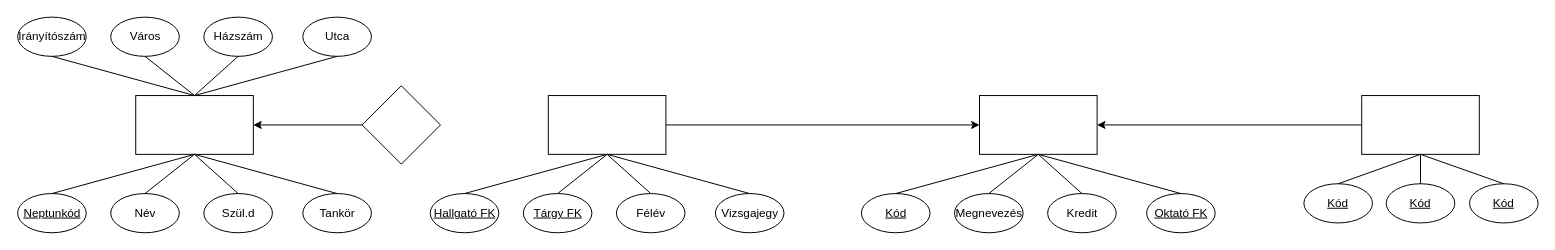
Image size: 1555x250. Some labels were removed from this diagram. Here are the shapes that lost their labels. From the top down, the centre of each, then its label:
the point at 194,124: HALLGATÓ
the point at 606,124: HALLGAT
the point at 1038,124: TÁRGY
the point at 1420,124: OKTATÓ
